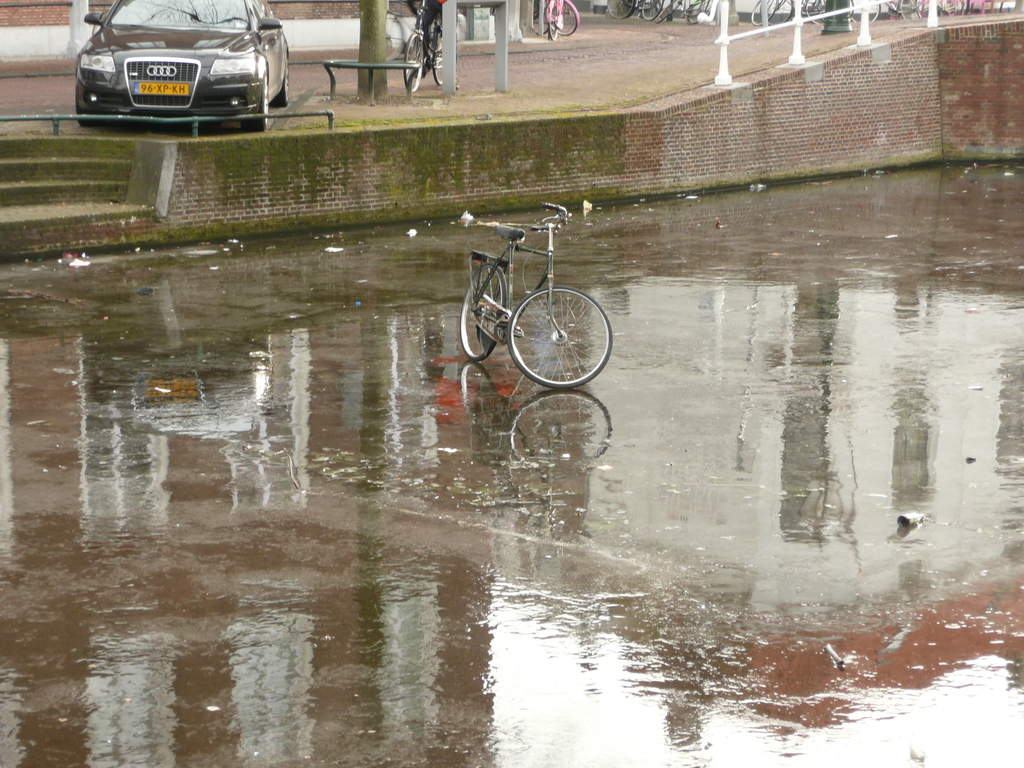Car: (74, 0, 296, 124)
